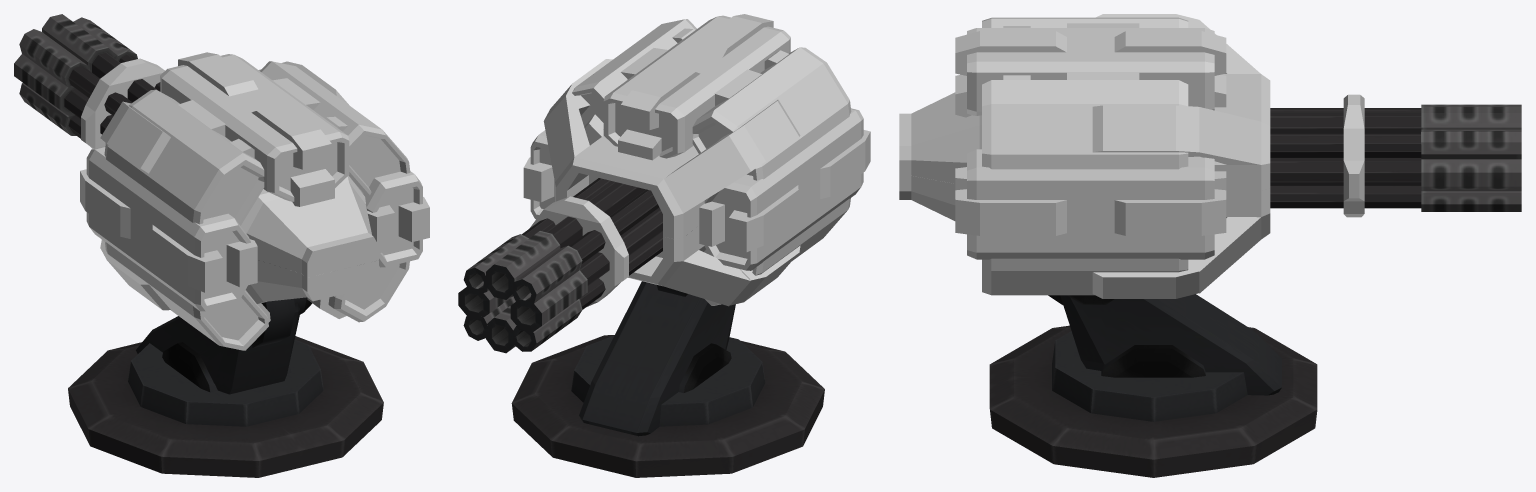
File: PDC_AUTO_CANNON2.fbx
3 views of the same model, side by side, from view 1: azimuth 30°, elevation 25°; view 2: azimuth 150°, elevation 25°; view 3: azimuth 270°, elevation 25° (orthographic). The views are drawn at different scales.
Visible parts, largest first — view 1: PDC_Stand.007, Turret_Base_Plate, tri_Barrels.016, Turret_Angle_Stand, Station_Block-C001.033; view 2: PDC_Stand.007, Turret_Base_Plate, tri_Barrels.016, Turret_Angle_Stand, Station_Block-C001.033; view 3: PDC_Stand.007, Turret_Base_Plate, tri_Barrels.016, Turret_Angle_Stand, Station_Block-C001.033.
Boxes of the visible parts, x1,y1,x2,y2 form: PDC_Stand.007: (80, 52, 429, 350); Turret_Base_Plate: (68, 336, 383, 477); tri_Barrels.016: (14, 14, 160, 138); Turret_Angle_Stand: (136, 302, 300, 394); Station_Block-C001.033: (81, 58, 164, 148); PDC_Stand.007: (523, 14, 870, 306); Turret_Base_Plate: (511, 335, 824, 477); tri_Barrels.016: (458, 178, 662, 353); Turret_Angle_Stand: (579, 281, 735, 436); Station_Block-C001.033: (529, 196, 628, 306); PDC_Stand.007: (899, 14, 1270, 304); Turret_Base_Plate: (989, 325, 1317, 477); tri_Barrels.016: (1270, 104, 1521, 211); Turret_Angle_Stand: (1060, 294, 1281, 395); Station_Block-C001.033: (1343, 94, 1364, 217).
Bounding box in the file's own units: 2.88 × 3.63 × 5.2.
